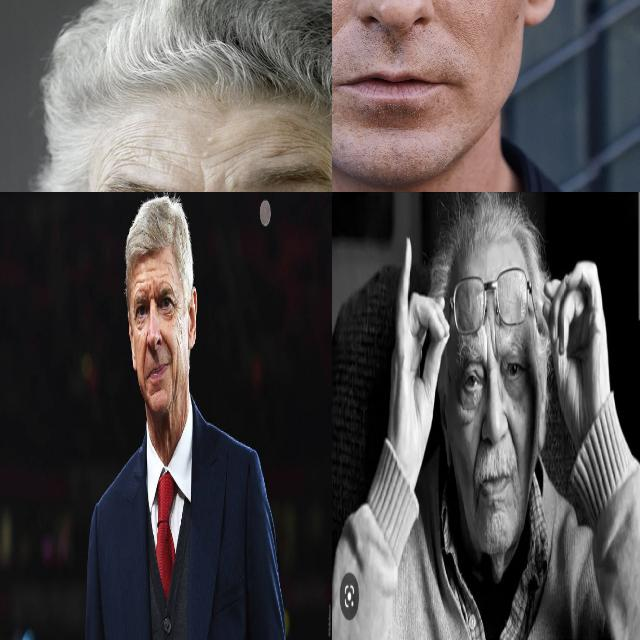chin: (491, 501, 502, 517), (150, 386, 163, 399)
crows_feet: (174, 302, 180, 322)
forehead: (257, 130, 332, 161), (99, 134, 151, 174), (133, 275, 146, 291), (159, 271, 172, 287)
frown_line: (482, 330, 499, 363), (194, 167, 211, 192), (150, 282, 156, 304)
gummy_smile: (505, 415, 517, 457), (472, 426, 482, 472), (162, 329, 172, 356), (141, 340, 149, 373)
masseter: (175, 331, 183, 354)
sad_smile: (474, 488, 481, 518), (169, 361, 174, 381), (142, 372, 147, 392)
